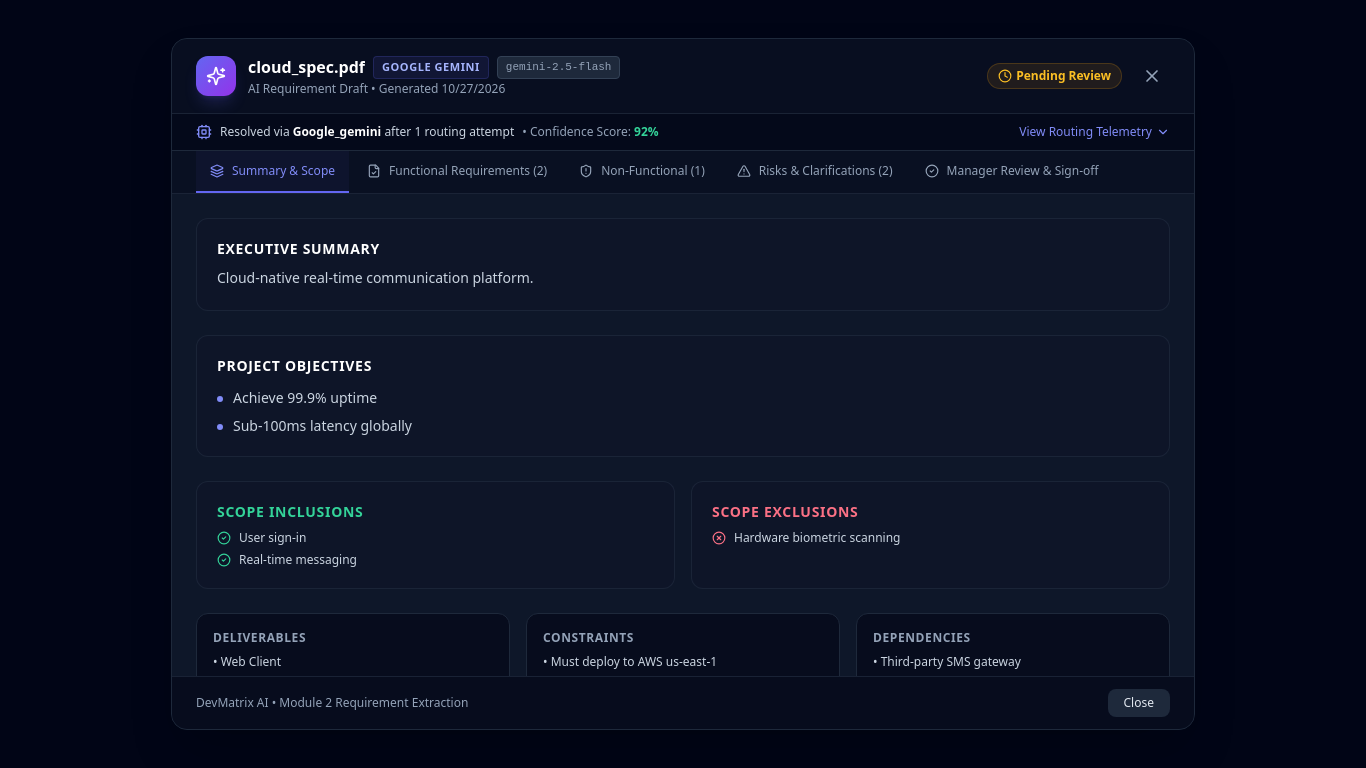
Test: RequirementDraftModal Component › renders risks and missing information tabs
The image size is (1366, 768).
Click the button "Risks & Clarifications (2)": point(815, 172) left=723, top=151, right=906, bottom=193
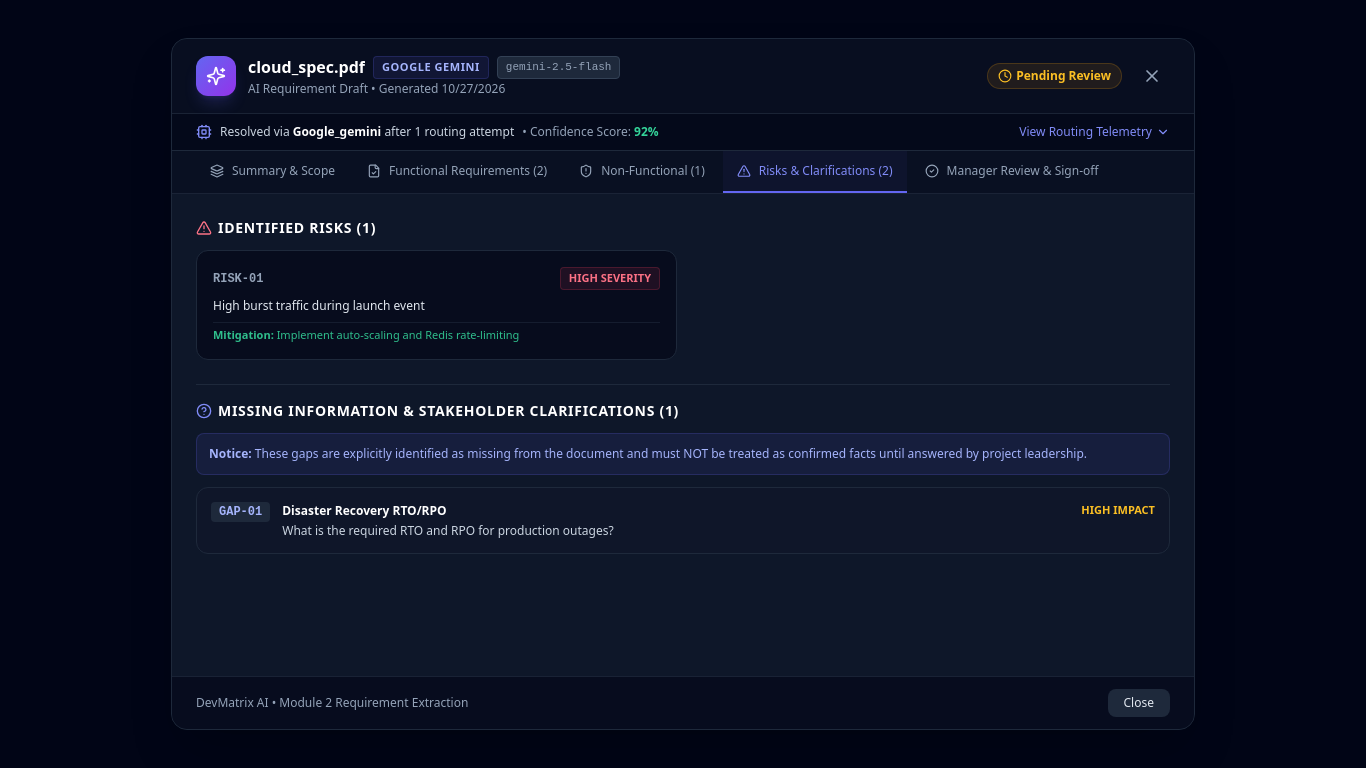
Now the text "High burst traffic during launch event" is shown, box left=213, top=297, right=425, bottom=314
Now the text "Disaster Recovery RTO/RPO" is shown, box left=282, top=503, right=447, bottom=519
Now the text "What is the required RTO and RPO for production outages?" is shown, box left=282, top=522, right=614, bottom=539
